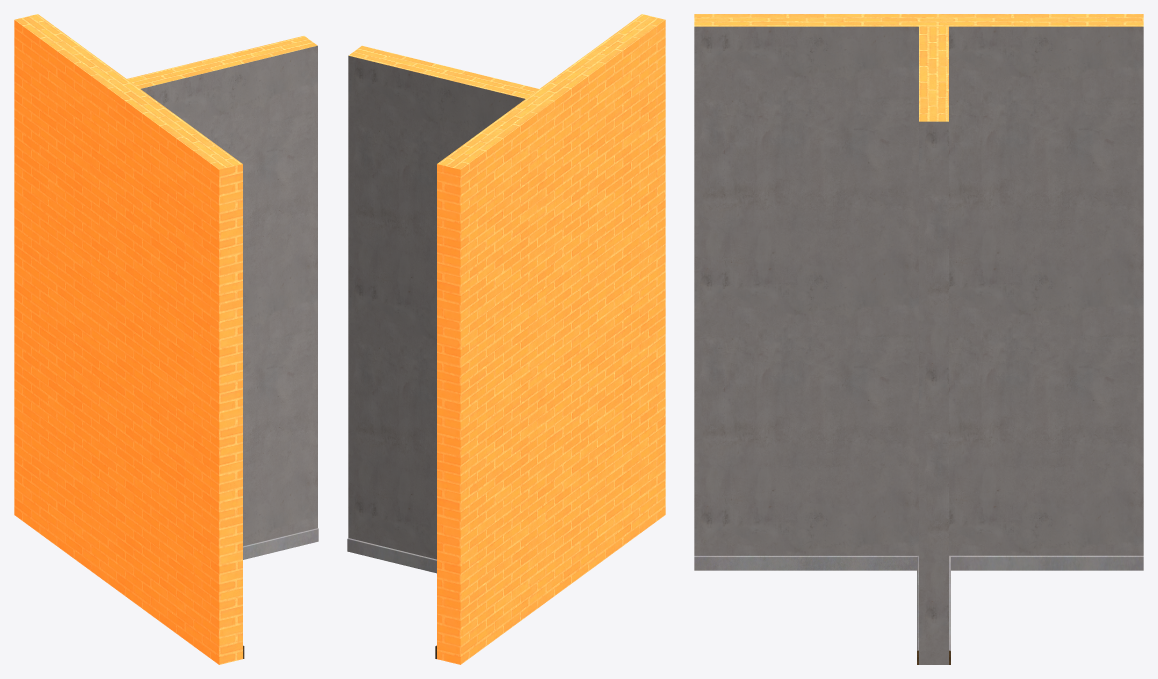
File: SM_Wall_T_Intersection_3x3_5_01d2.fbx
The picture shows the model from 3 angles, left to right: view 1: azimuth 30°, elevation 25°; view 2: azimuth 150°, elevation 25°; view 3: azimuth 270°, elevation 25°; orthographic projection. The views are drawn at different scales.
Parts seen in each view (by area): view 1: SM_Wall_T_Intersection_3x3_5_01d; view 2: SM_Wall_T_Intersection_3x3_5_01d; view 3: SM_Wall_T_Intersection_3x3_5_01d.
Boxes of the visible parts, x1,y1,x2,y2 form: SM_Wall_T_Intersection_3x3_5_01d: [14, 14, 318, 664]; SM_Wall_T_Intersection_3x3_5_01d: [347, 14, 665, 664]; SM_Wall_T_Intersection_3x3_5_01d: [694, 14, 1143, 664].
Size of the model in its own units: 170 by 400 by 300.
